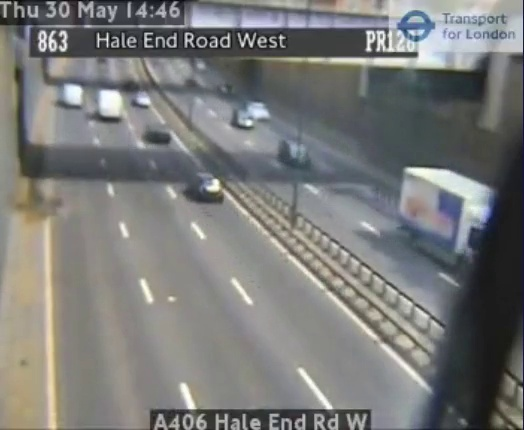car: (189, 172, 223, 201), (97, 90, 123, 118)
